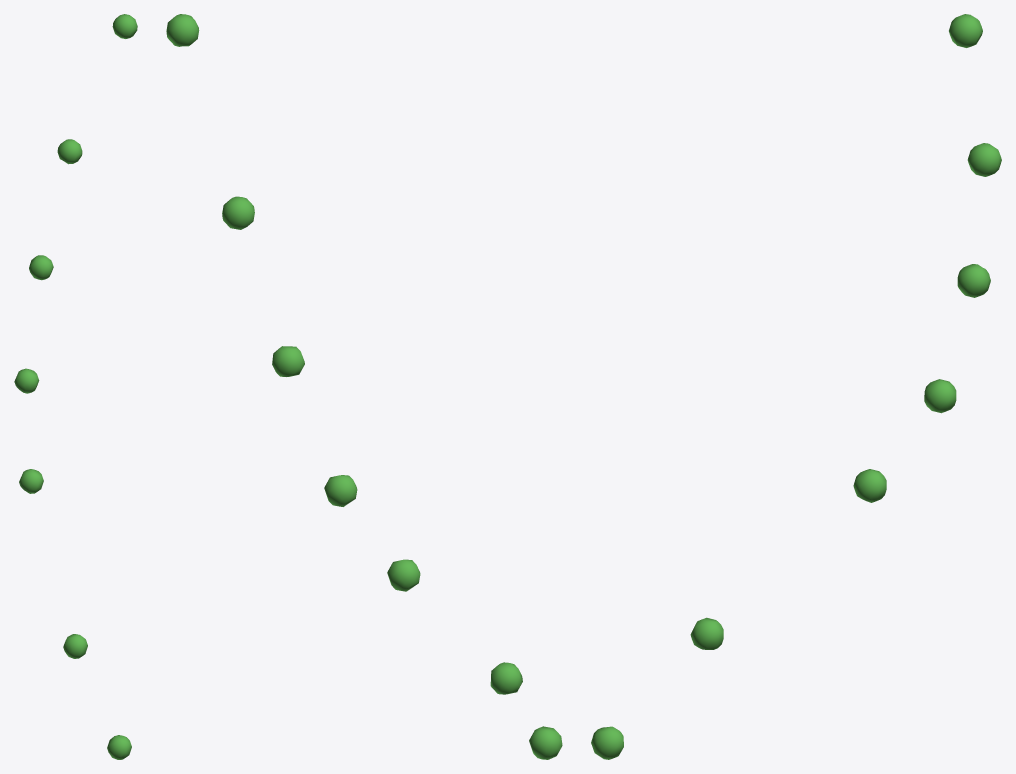
File: linfatico-intermediate-external-iliac-nodes-r.glb
3 renders of one model, left to right at view 1: azimuth 30°, elevation 25°; view 2: azimuth 150°, elevation 25°; view 3: azimuth 270°, elevation 25°, orthographic. The views are drawn at different scales.
Parts seen in each view (by area): view 1: Intermediate external iliac nodes.r; view 2: Intermediate external iliac nodes.r; view 3: Intermediate external iliac nodes.r.
Boxes of the visible parts, x1,y1,x2,y2 form: Intermediate external iliac nodes.r: [14, 14, 137, 759]; Intermediate external iliac nodes.r: [166, 14, 562, 759]; Intermediate external iliac nodes.r: [591, 14, 1001, 759].
Bounding box in the file's own units: 0.0197 × 0.0696 × 0.0311.
